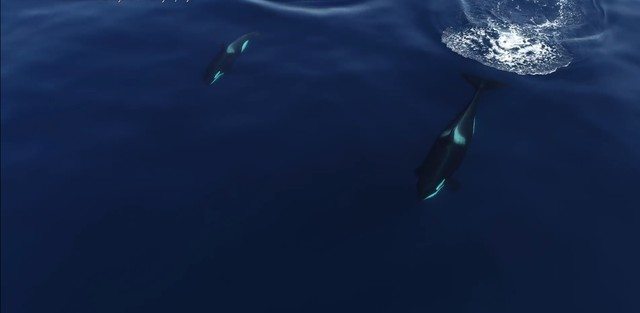whale: (404, 63, 507, 213), (191, 25, 267, 93)
